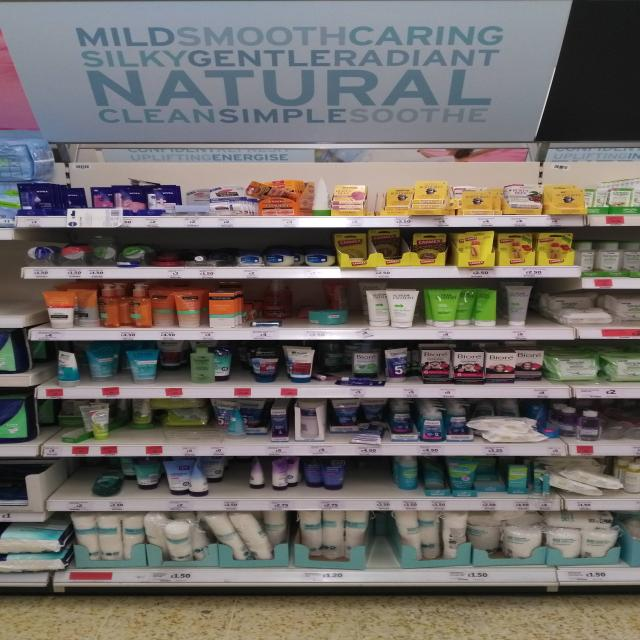empty: (344, 453, 396, 491)
